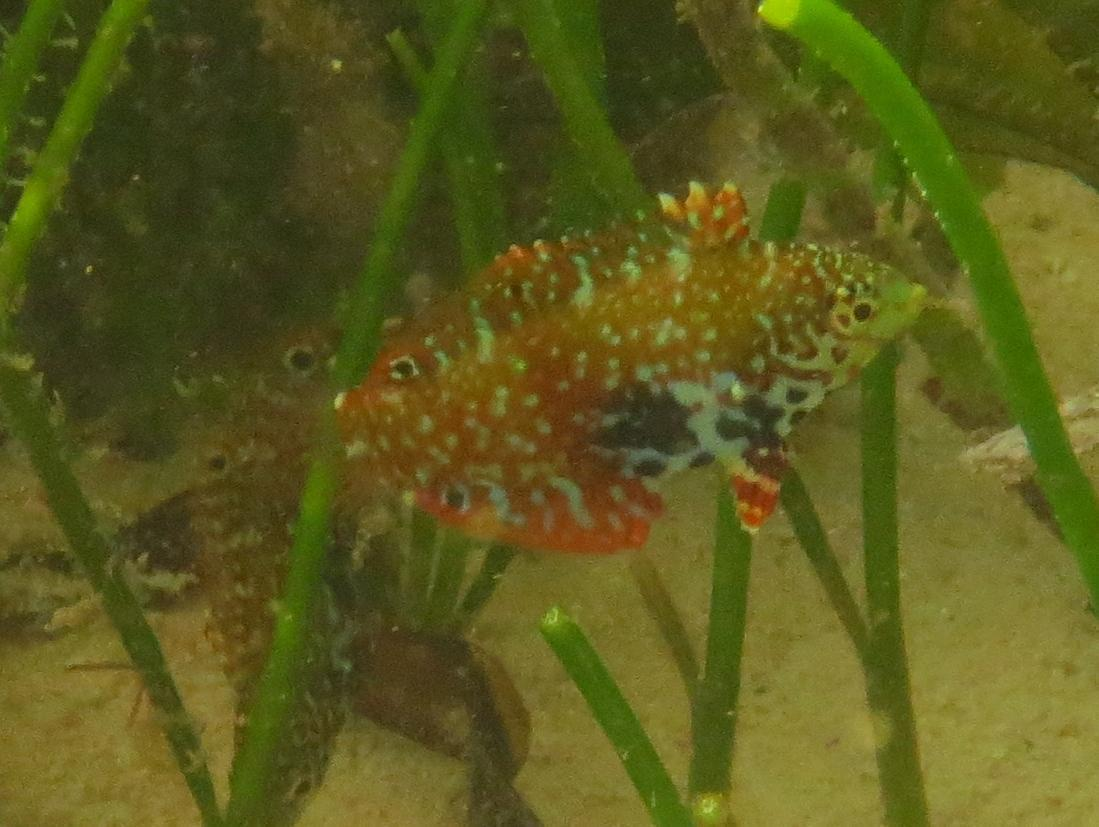Fish: (139, 162, 980, 576)
